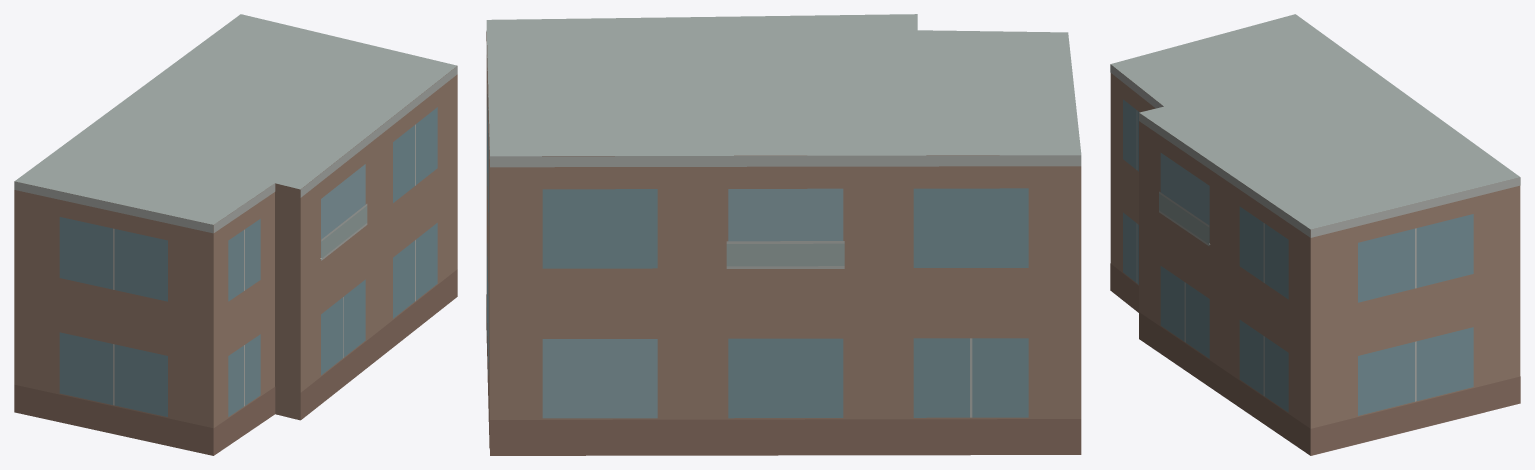
Rendered from survey-upis-33001462.glb.
3 renders of one model, left to right at view 1: azimuth 30°, elevation 25°; view 2: azimuth 150°, elevation 25°; view 3: azimuth 270°, elevation 25°, orthographic. The views are drawn at different scales.
Visible parts, largest first — view 1: survey-upis-33001462.tmp; view 2: survey-upis-33001462.tmp; view 3: survey-upis-33001462.tmp.
Part boxes in pixels (<box>): survey-upis-33001462.tmp: <box>14,14,457,455</box>; survey-upis-33001462.tmp: <box>486,14,1081,455</box>; survey-upis-33001462.tmp: <box>1110,14,1520,455</box>.
Size of the model in its own units: 13.49 by 6.6 by 10.85.
